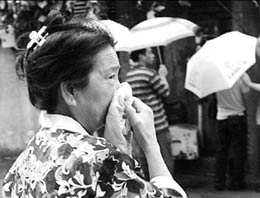face: (72, 47, 128, 128)
